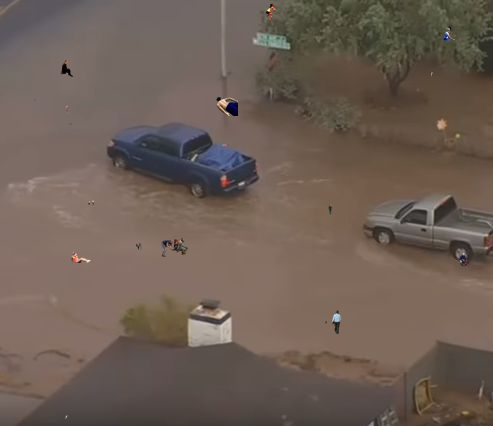Human: (161, 238, 188, 257), (249, 3, 276, 21), (323, 310, 342, 334), (216, 97, 238, 116), (443, 26, 459, 42), (71, 251, 91, 263), (60, 60, 74, 77), (459, 253, 468, 266), (222, 139, 234, 146), (328, 204, 333, 215), (135, 243, 142, 250), (88, 200, 94, 205), (66, 105, 68, 113), (65, 415, 68, 419), (397, 215, 401, 218), (431, 72, 433, 77), (34, 98, 36, 101), (69, 123, 72, 125), (343, 111, 345, 114), (287, 175, 288, 176)
